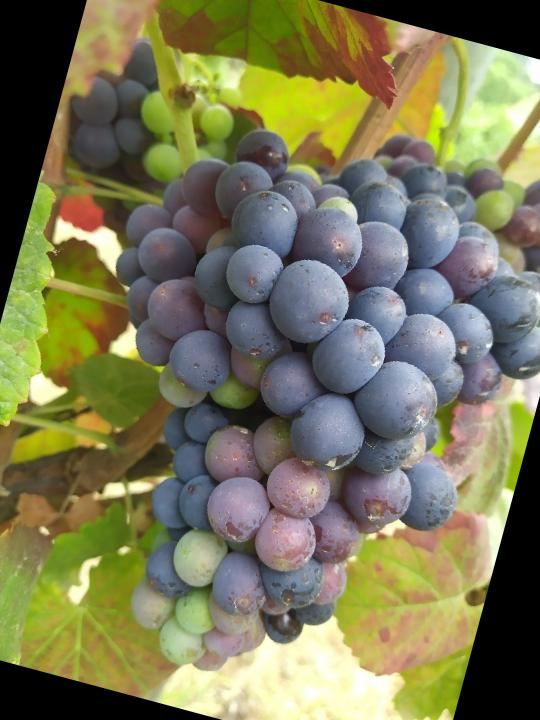grape: (6, 94, 540, 720)
